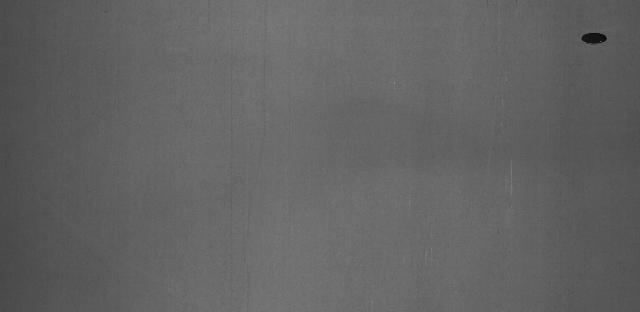punching_hole: (578, 30, 611, 47)
